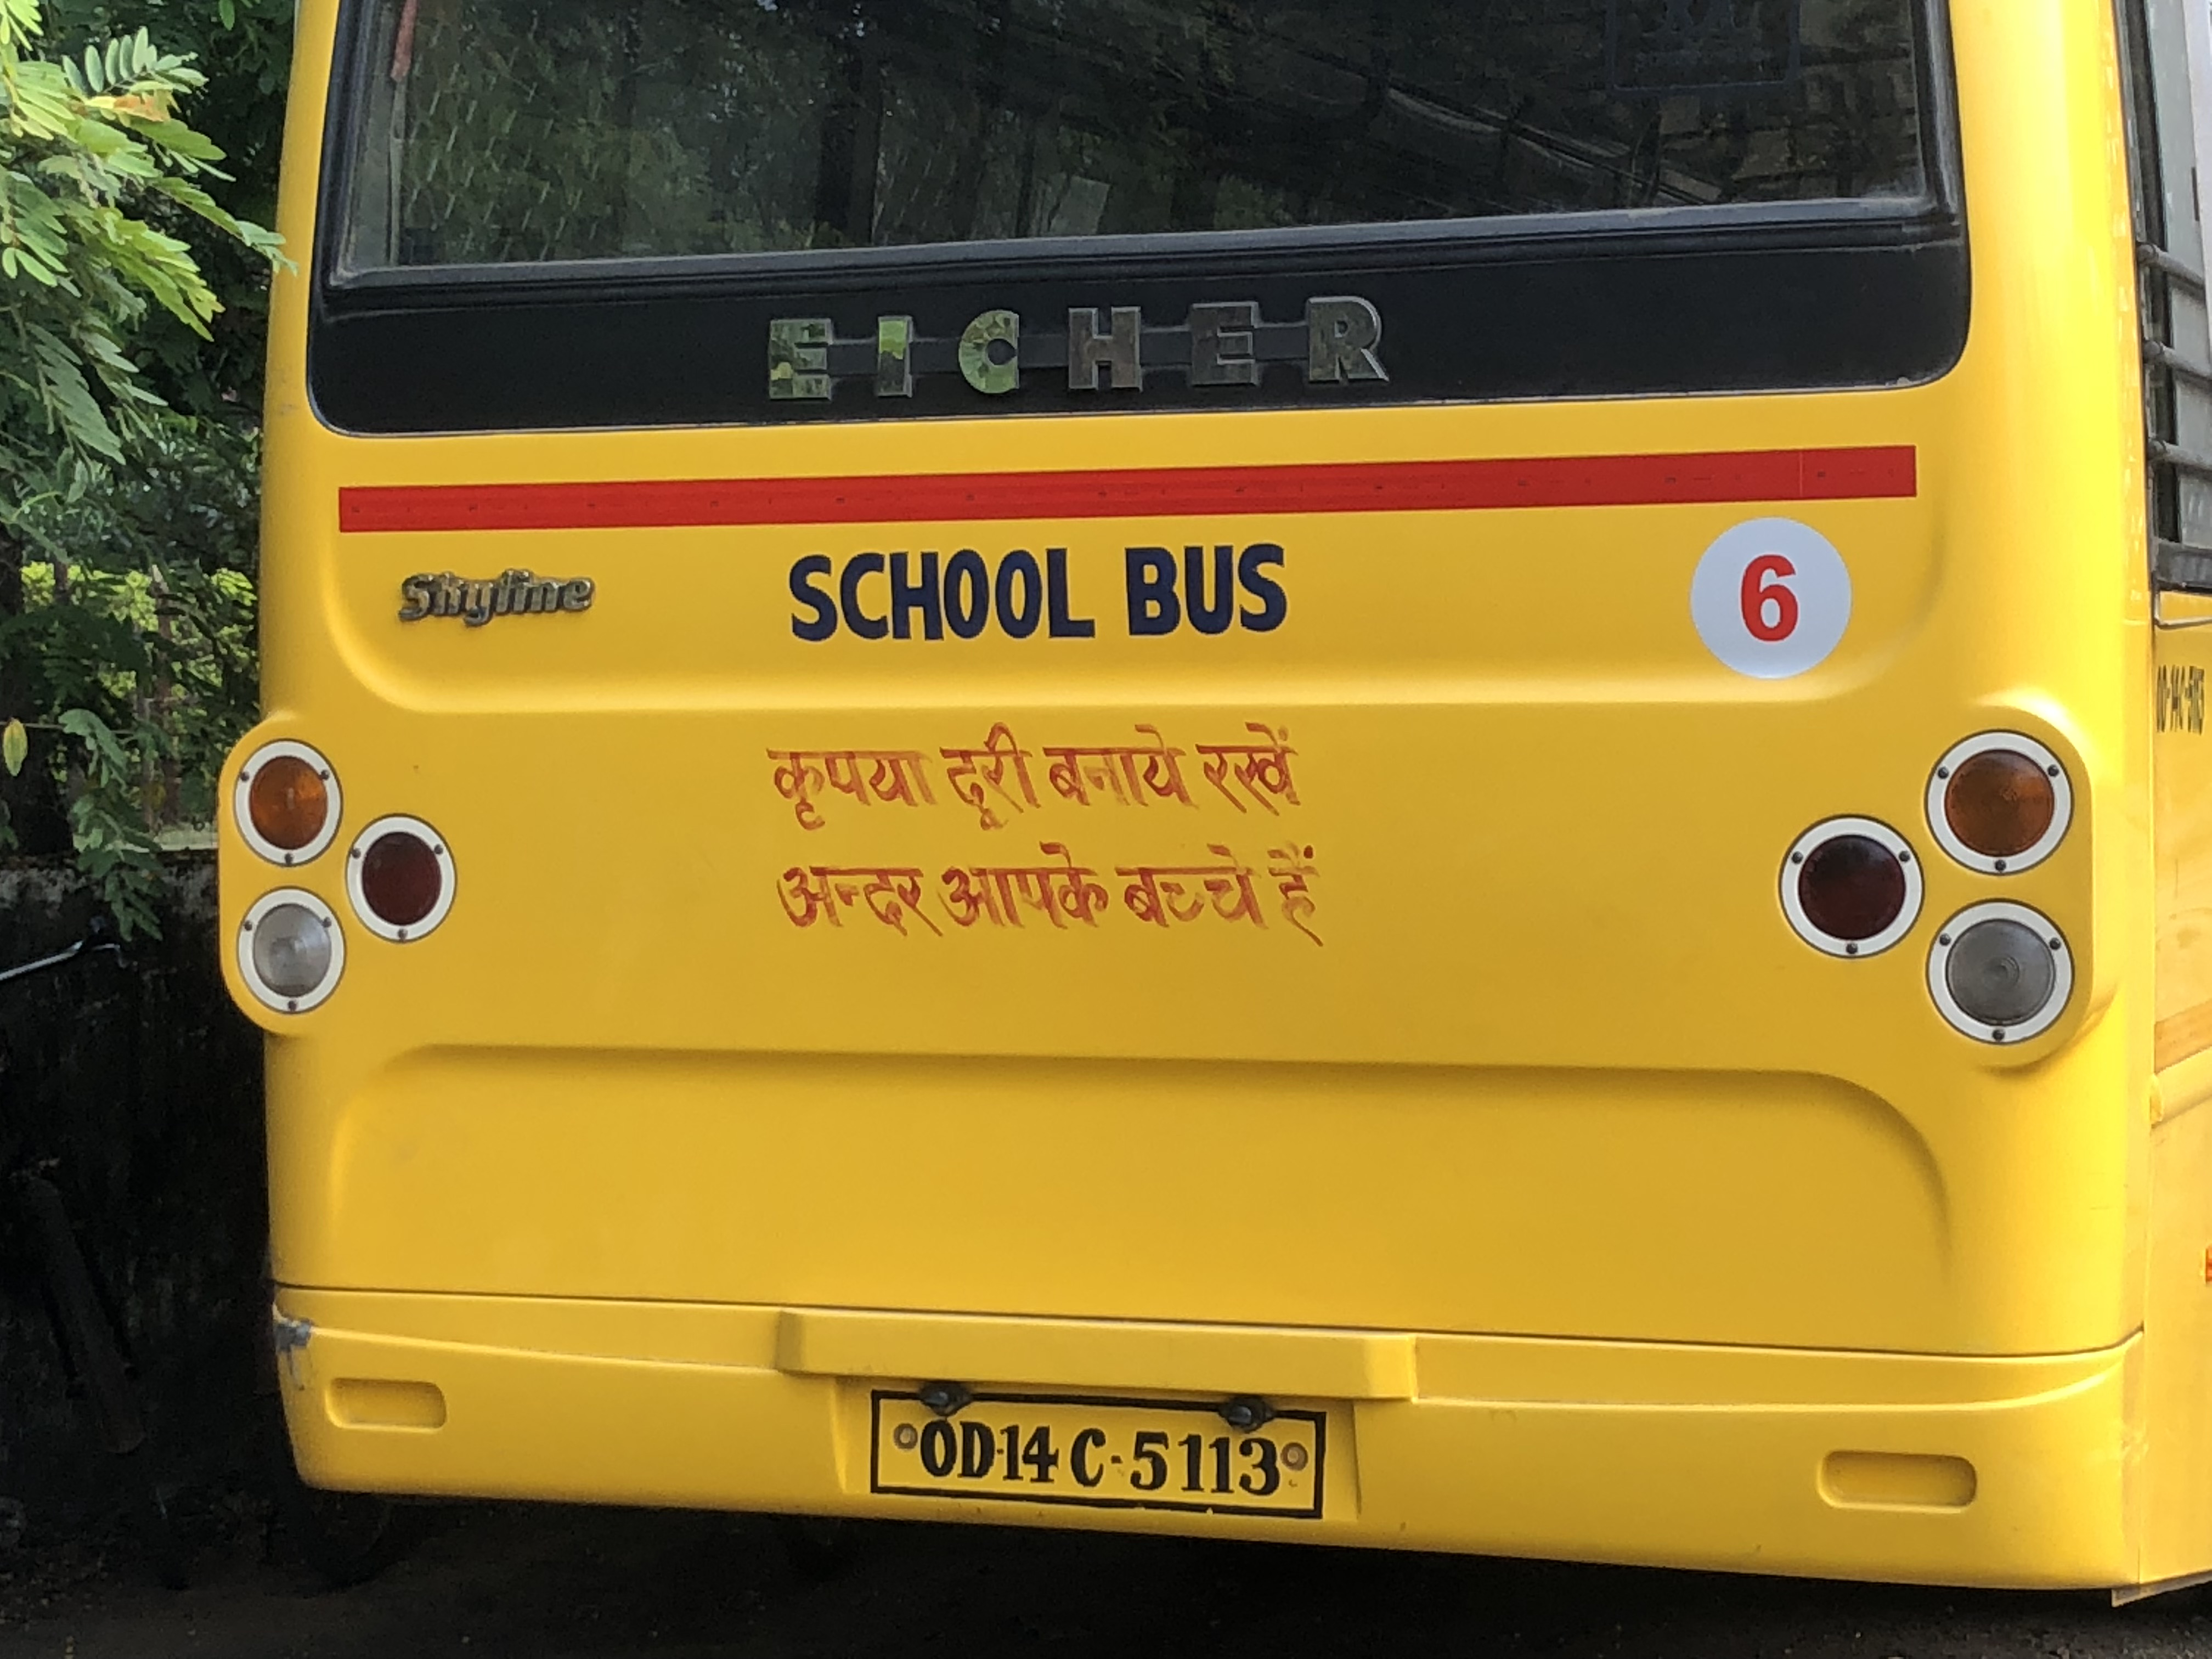licenseplate: (860, 1386, 1337, 1521)
